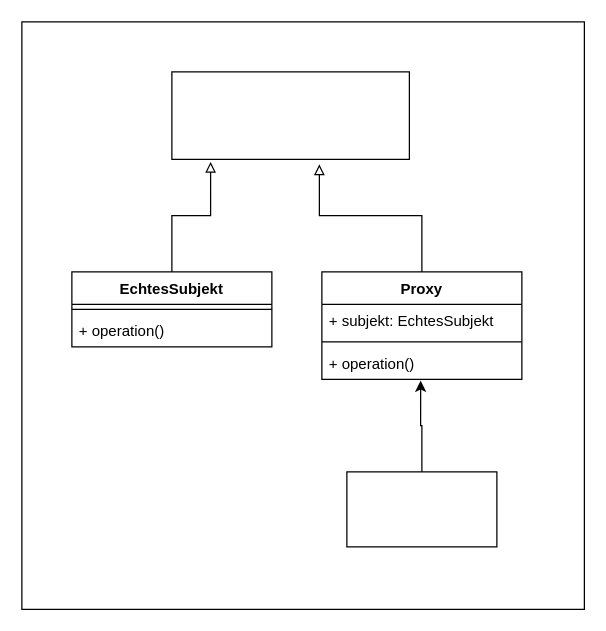
This 606x631 diagram has some shape labels left out. The centre of each missing label's shape, as x and y in pixels:
<<Interface>> Subjekt + operation(): (290,115)
Client: (421,509)
